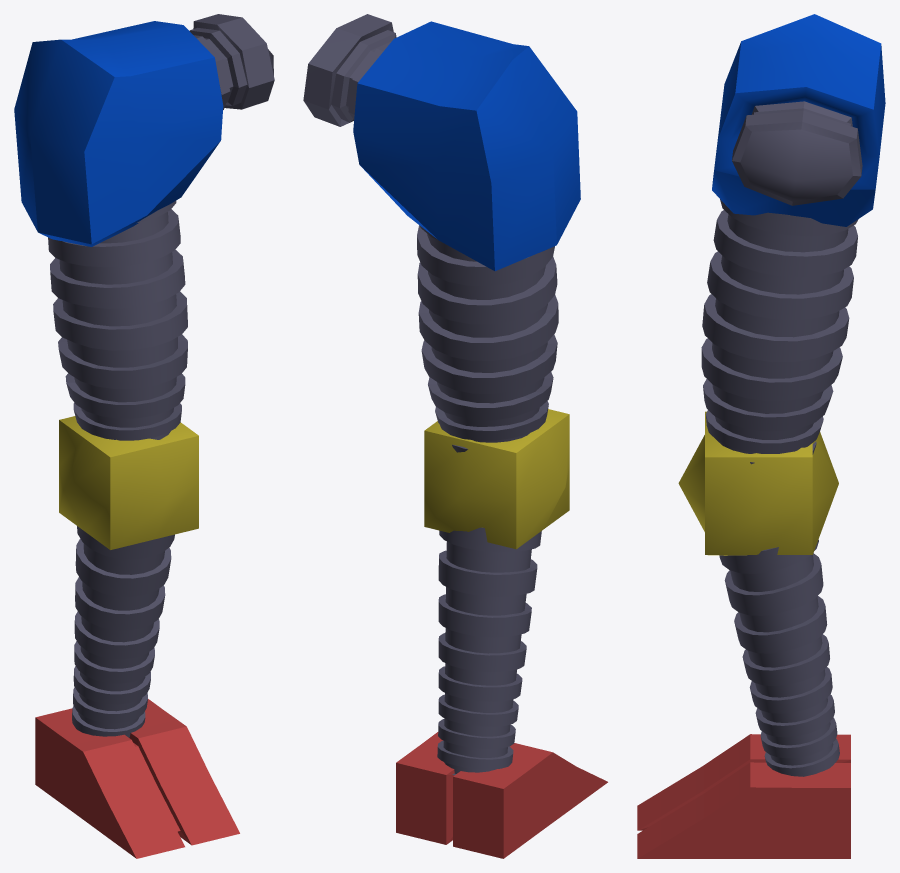
Rendered from Robot_Leg_right_A.fbx.
3 renders of one model, left to right at view 1: azimuth 30°, elevation 25°; view 2: azimuth 150°, elevation 25°; view 3: azimuth 270°, elevation 25°, orthographic. The views are drawn at different scales.
Parts seen in each view (by area): view 1: polySurface51, polySurface53, pCube10, pCylinder4, pCube9; view 2: polySurface51, polySurface53, pCylinder4, pCube10, pCube9; view 3: polySurface53, polySurface51, pCube10, pCylinder4, pCube9.
Part boxes in pixels (x1,y1,x2,y2): polySurface51: (14,14,274,246); polySurface53: (48,201,187,440); pCube10: (35,699,239,858); pCylinder4: (72,526,174,737); pCube9: (59,416,198,549); polySurface51: (303,14,580,271); polySurface53: (417,225,558,452); pCylinder4: (437,527,541,775); pCube10: (396,732,607,858); pCube9: (424,409,569,549); polySurface53: (701,199,858,464); polySurface51: (712,14,885,226); pCube10: (637,734,850,858); pCylinder4: (719,540,839,776); pCube9: (678,411,838,555).
Size of the model in its own units: 1.53 by 4.65 by 1.31.
